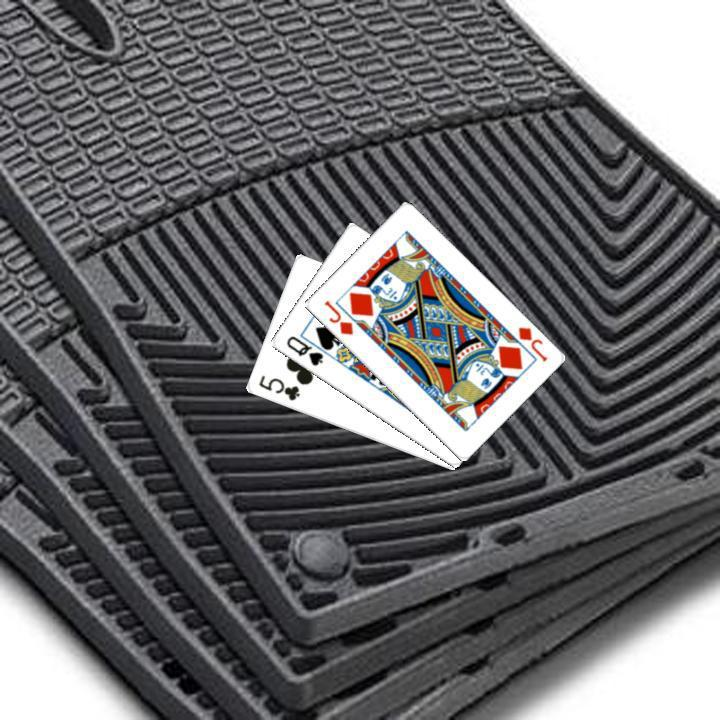5: (254, 371, 301, 403)
J: (513, 322, 549, 364), (319, 296, 355, 337)
Q: (282, 331, 325, 368)
